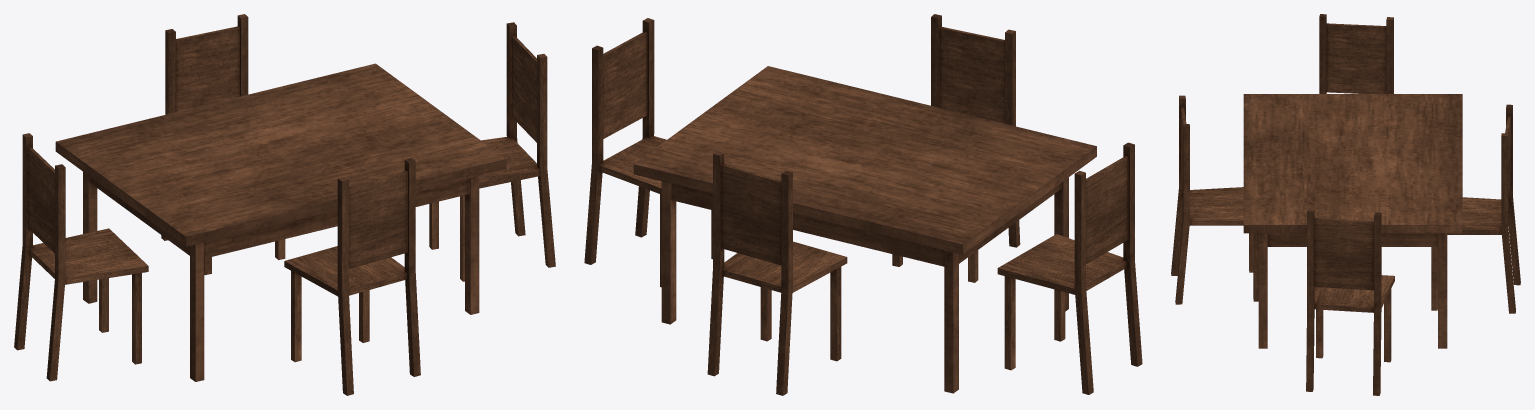
3 views of the same model, side by side, from view 1: azimuth 30°, elevation 25°; view 2: azimuth 150°, elevation 25°; view 3: azimuth 270°, elevation 25° (orthographic). The views are drawn at different scales.
Parts seen in each view (by area): view 1: table_1, chair_03_0, chair_02_4, chair_2, chair_01_3; view 2: table_1, chair_01_3, chair_02_4, chair_2, chair_03_0; view 3: table_1, chair_2, chair_02_4, chair_03_0, chair_01_3.
Boxes of the visible parts, left/top/right/bottom form: table_1: left=55, top=63, right=506, bottom=381; chair_03_0: left=284, top=158, right=420, bottom=395; chair_02_4: left=14, top=133, right=148, bottom=381; chair_2: left=429, top=22, right=555, bottom=281; chair_01_3: left=161, top=14, right=285, bottom=274; table_1: left=633, top=66, right=1096, bottom=393; chair_01_3: left=707, top=151, right=847, bottom=395; chair_02_4: left=997, top=142, right=1142, bottom=394; chair_2: left=584, top=18, right=712, bottom=287; chair_03_0: left=892, top=14, right=1020, bottom=282; table_1: left=1243, top=94, right=1462, bottom=348; chair_2: left=1306, top=208, right=1394, bottom=395; chair_02_4: left=1319, top=14, right=1393, bottom=93; chair_03_0: left=1171, top=95, right=1258, bottom=304; chair_01_3: left=1431, top=104, right=1520, bottom=313.
Bounding box in the file's own units: 2.72 × 1.08 × 1.93.
Materials: 1 (1 with a texture image).
